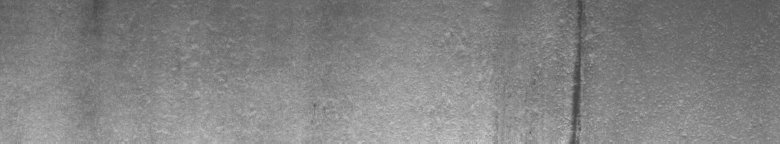hd: (564, 4, 593, 136)
